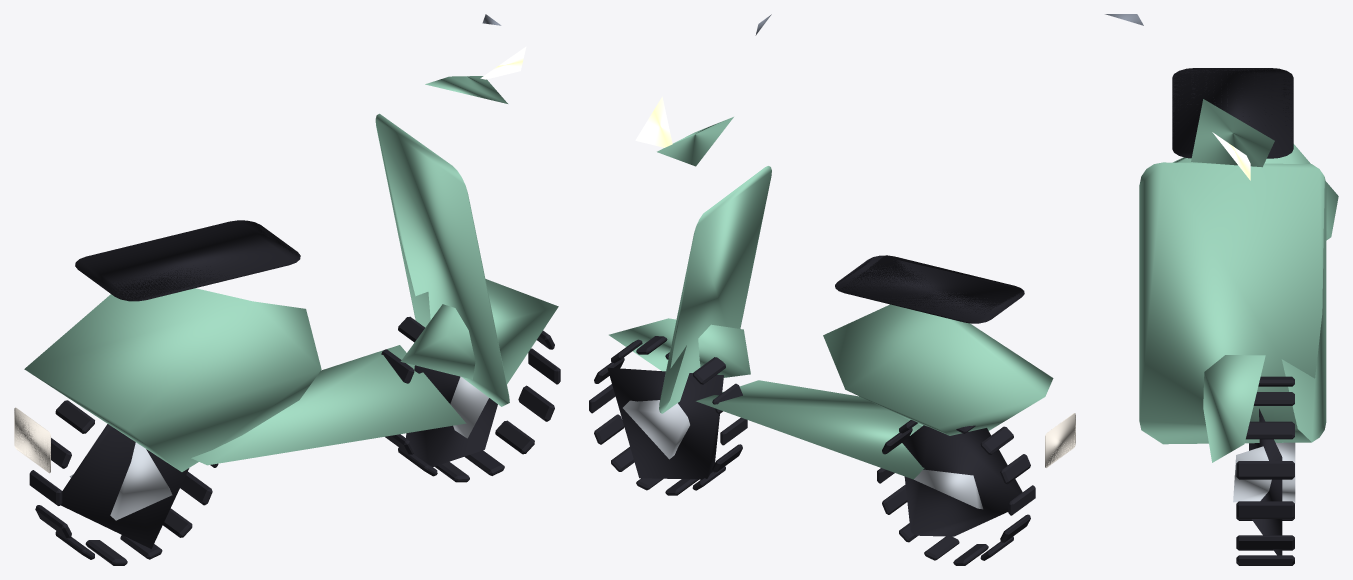
The model's file is scooter.glb.
3 renders of one model, left to right at view 1: azimuth 30°, elevation 25°; view 2: azimuth 150°, elevation 25°; view 3: azimuth 270°, elevation 25°, orthographic. The views are drawn at different scales.
Parts seen in each view (by area): view 1: scooter; view 2: scooter; view 3: scooter.
Part boxes in pixels (bbox=[...]): scooter: bbox=[14, 14, 560, 565]; scooter: bbox=[589, 14, 1075, 565]; scooter: bbox=[1105, 14, 1338, 565].
Size of the model in its own units: 1.34 by 1.23 by 0.5015.
Materials: 1 (1 with a texture image).
